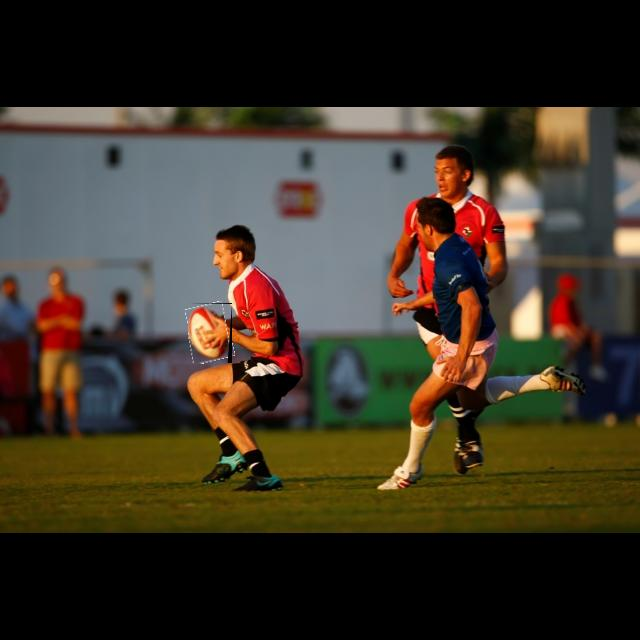Football: (188, 303, 232, 363)
